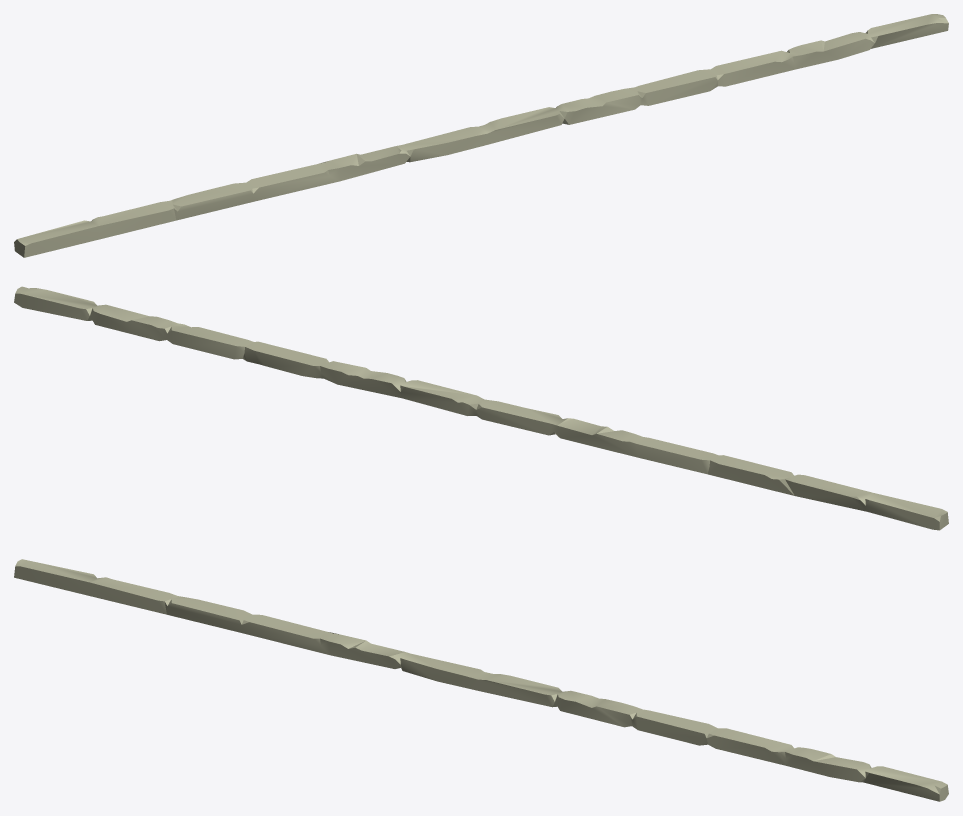
File: SM_rocktile005.fbx
The picture shows the model from 3 angles, top to bottom: view 1: azimuth 30°, elevation 25°; view 2: azimuth 150°, elevation 25°; view 3: azimuth 330°, elevation 25°; orthographic projection.
Parts seen in each view (by area): view 1: SM_rocktile005; view 2: SM_rocktile005; view 3: SM_rocktile005.
Boxes of the visible parts, x1,y1,x2,y2 form: SM_rocktile005: (14,14,948,257); SM_rocktile005: (14,286,948,530); SM_rocktile005: (14,559,948,801).
Size of the model in its own units: 300 by 4.51 by 6.37.
